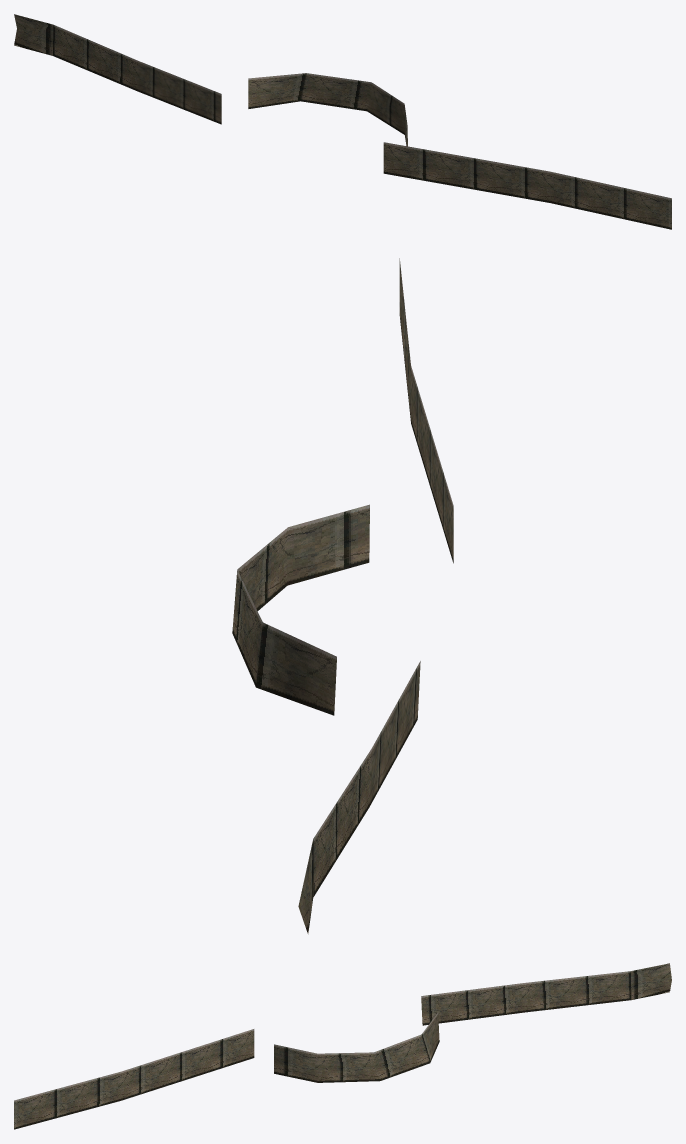
Rendered from CH09_SMAUG_PLAYSURFACE_LAIR134.fbx.
3 views of the same model, one above another, from view 1: azimuth 30°, elevation 25°; view 2: azimuth 150°, elevation 25°; view 3: azimuth 270°, elevation 25° (orthographic). The views are drawn at different scales.
Visible parts, largest first — view 1: CH09_SMAUG_PLAYSURFACE_LAIR134; view 2: CH09_SMAUG_PLAYSURFACE_LAIR134; view 3: CH09_SMAUG_PLAYSURFACE_LAIR134.
Part boxes in pixels (x1,y1,x2,y2): CH09_SMAUG_PLAYSURFACE_LAIR134: (14,14,671,229); CH09_SMAUG_PLAYSURFACE_LAIR134: (232,258,453,934); CH09_SMAUG_PLAYSURFACE_LAIR134: (14,963,671,1129).
Size of the model in its own units: 61733 by 6181 by 124676.
1 material, 1 textured.
